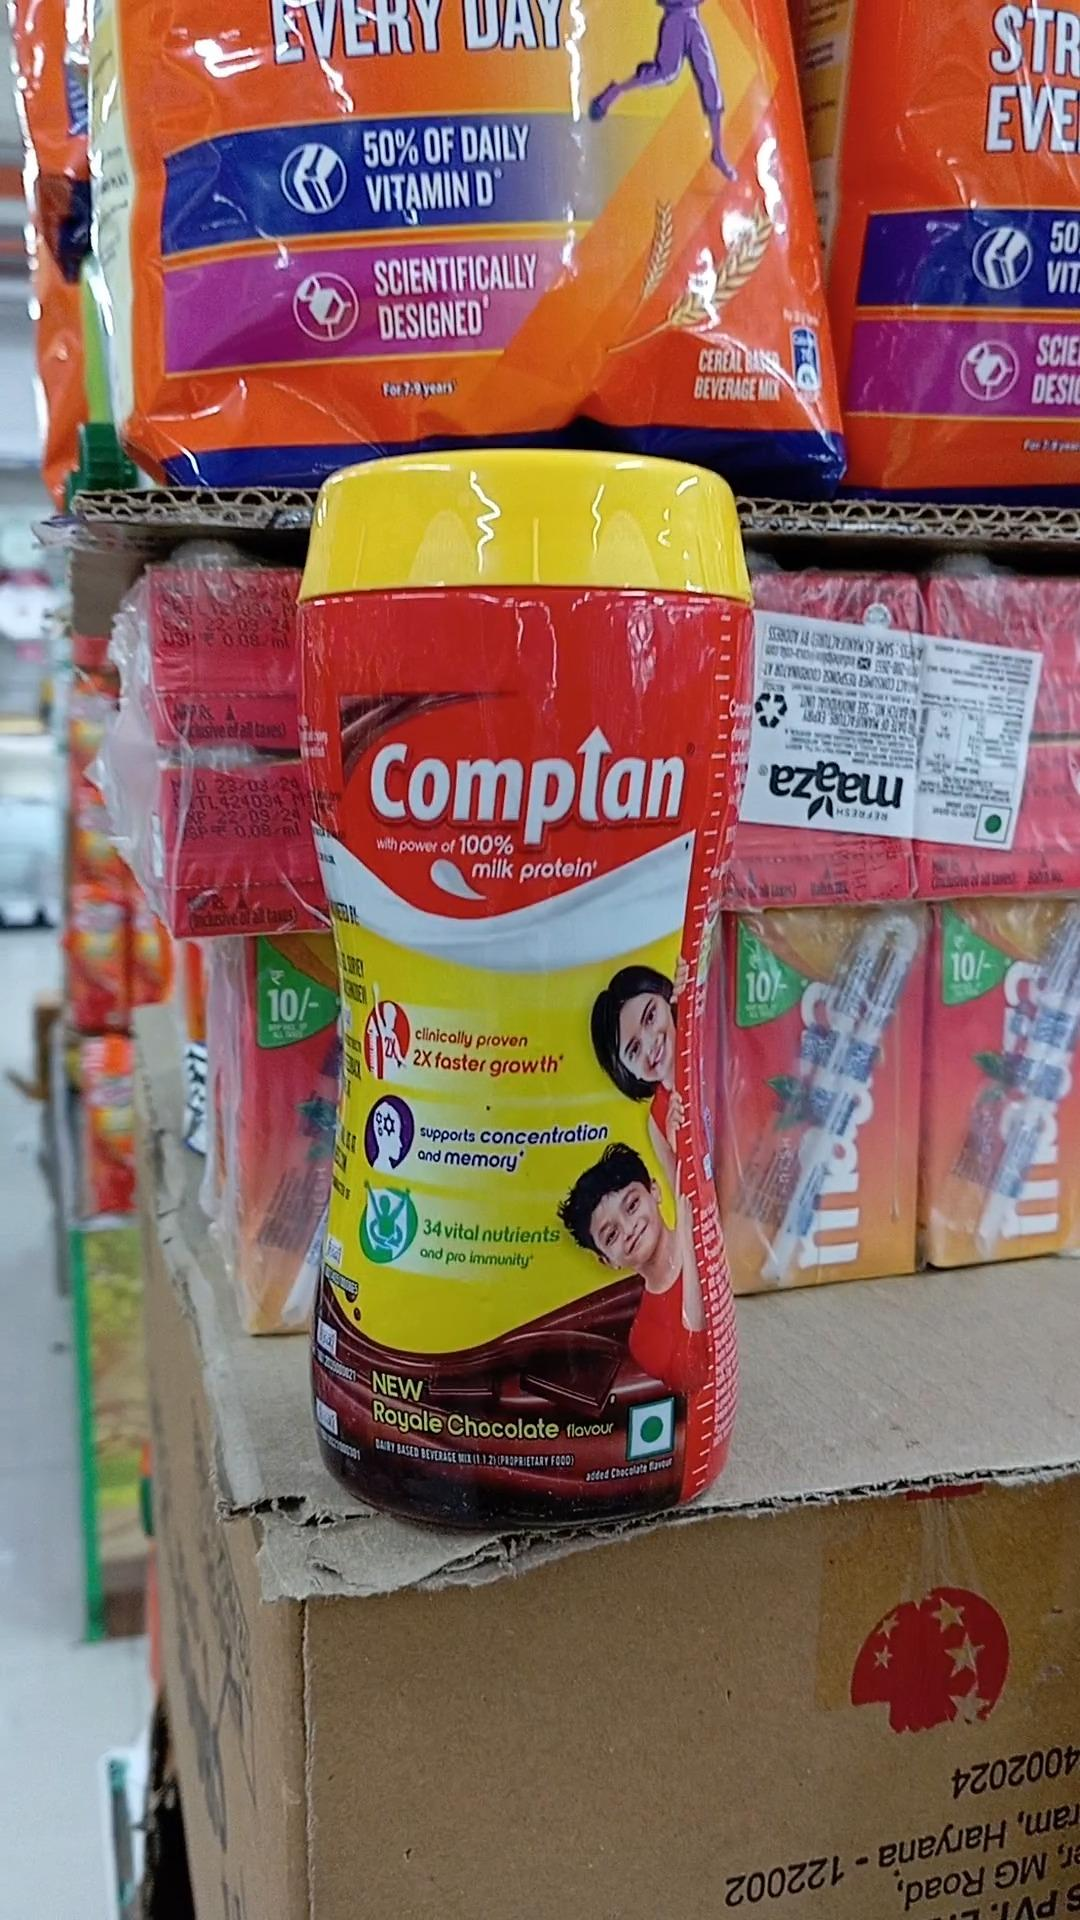COMPLAN_CHOCOLATE_200_GMS_JAR: (303, 444, 737, 1516)
